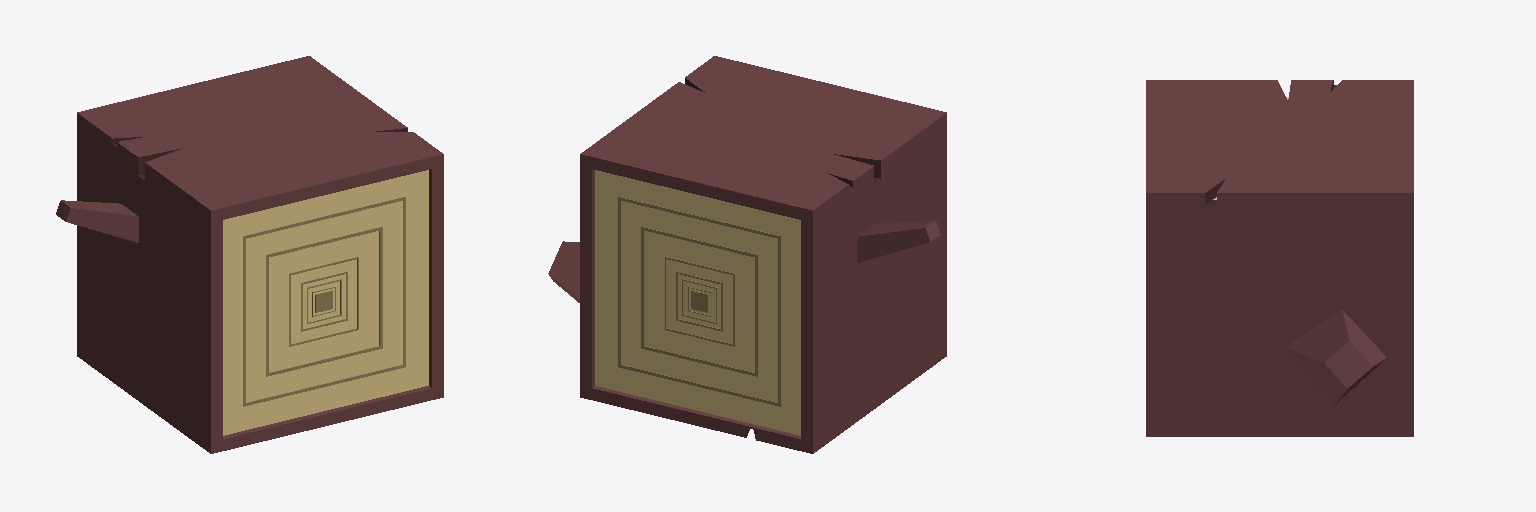
File: log(1).obj
The picture shows the model from 3 angles: view 1: azimuth 30°, elevation 25°; view 2: azimuth 150°, elevation 25°; view 3: azimuth 270°, elevation 25°; orthographic projection.
Visible parts, largest first — view 1: 큐브_1, 큐브, 큐브.2, 큐브.1_6, 큐브.1_5, 큐브.1_7; view 2: 큐브_1, 큐브, 큐브.2, 큐브.1_6, 큐브.1_5, 큐브.1_7, 큐브.3; view 3: 큐브_1, 큐브.3.
Part boxes in pixels (x1,y1,x2,y2): 큐브_1: (77, 56, 443, 453); 큐브: (223, 170, 428, 435); 큐브.2: (56, 200, 138, 242); 큐브.1_6: (243, 197, 405, 406); 큐브.1_5: (266, 227, 382, 376); 큐브.1_7: (223, 169, 431, 438); 큐브_1: (580, 56, 946, 453); 큐브: (595, 170, 800, 435); 큐브.2: (857, 220, 940, 262); 큐브.1_6: (618, 197, 780, 406); 큐브.1_5: (641, 227, 757, 376); 큐브.1_7: (592, 169, 800, 438); 큐브.3: (548, 241, 579, 302); 큐브_1: (1146, 80, 1413, 436); 큐브.3: (1285, 310, 1386, 405).
Bounding box in the file's own units: 312 × 200 × 200.